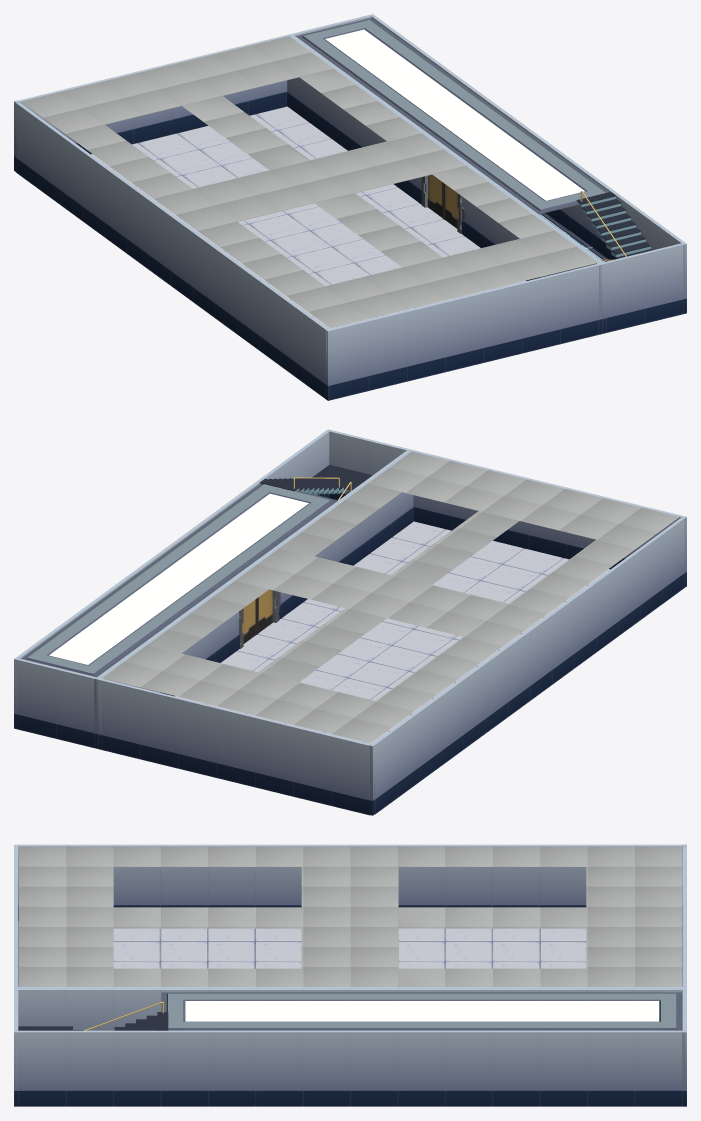
File: proto_map_1f.fbx
3 views of the same model, one above another, from view 1: azimuth 30°, elevation 25°; view 2: azimuth 150°, elevation 25°; view 3: azimuth 270°, elevation 25° (orthographic). The views are drawn at different scales.
Visible parts, largest first — view 1: celling2_low, main_low.006, main_low.004, floor2_low.007, celling1-1_low, main_low.002, main_low.005, main_low, main_low.003, step.001, celling1_low, celling1_low.001 (+1 smaller); view 2: celling2_low, main_low.006, main_low, floor2_low.007, celling1-1_low, main_low.002, main_low.001, main_low.004, main_low.003, main_low.005, celling1_low, celling1_low.001 (+3 smaller); view 3: celling2_low, main_low.003, main_low.006, celling1-1_low, floor2_low.007, main_low.002, celling1_low, celling1_low.001, step.001, main_low.004, main_low.
Boxes of the visible parts, <box> form: celling2_low: <box>21,36,598,327</box>; main_low.006: <box>16,102,328,398</box>; main_low.004: <box>329,264,598,399</box>; floor2_low.007: <box>91,106,525,328</box>; celling1-1_low: <box>318,34,592,197</box>; main_low.002: <box>287,35,603,280</box>; main_low.005: <box>605,243,683,332</box>; main_low: <box>18,35,286,154</box>; main_low.003: <box>371,15,684,259</box>; step.001: <box>576,191,652,258</box>; celling1_low: <box>296,18,392,52</box>; celling1_low.001: <box>517,179,608,214</box>; celling2_low: <box>102,451,679,743</box>; main_low.006: <box>372,517,684,814</box>; main_low: <box>102,679,370,815</box>; floor2_low.007: <box>175,521,610,743</box>; celling1-1_low: <box>42,498,315,662</box>; main_low.002: <box>97,450,413,696</box>; main_low.001: <box>17,658,95,747</box>; main_low.004: <box>414,450,683,569</box>; main_low.003: <box>16,431,329,658</box>; main_low.005: <box>329,430,407,500</box>; celling1_low: <box>21,643,116,677</box>; celling1_low.001: <box>241,484,338,516</box>; celling2_low: <box>19,846,682,986</box>; main_low.003: <box>18,1030,682,1106</box>; main_low.006: <box>18,844,682,920</box>; celling1-1_low: <box>209,992,635,1030</box>; floor2_low.007: <box>18,921,586,986</box>; main_low.002: <box>18,987,682,1030</box>; celling1_low: <box>635,992,682,1030</box>; celling1_low.001: <box>161,992,208,1030</box>; step.001: <box>84,1001,168,1030</box>; main_low.004: <box>14,846,18,986</box>; main_low: <box>682,846,686,986</box>.
Bounding box in the file's own units: 14056 × 3010 × 21300.
